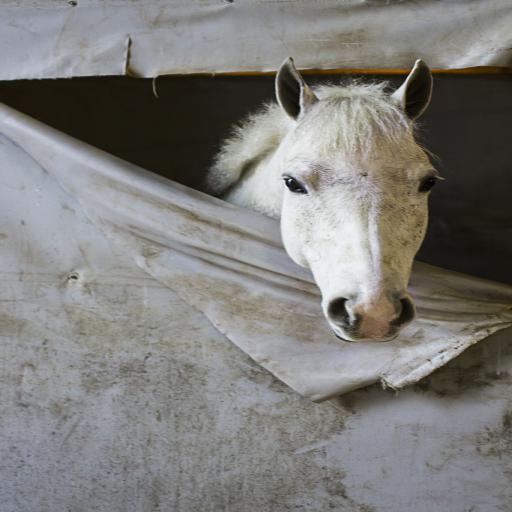horse: (200, 52, 450, 346)
